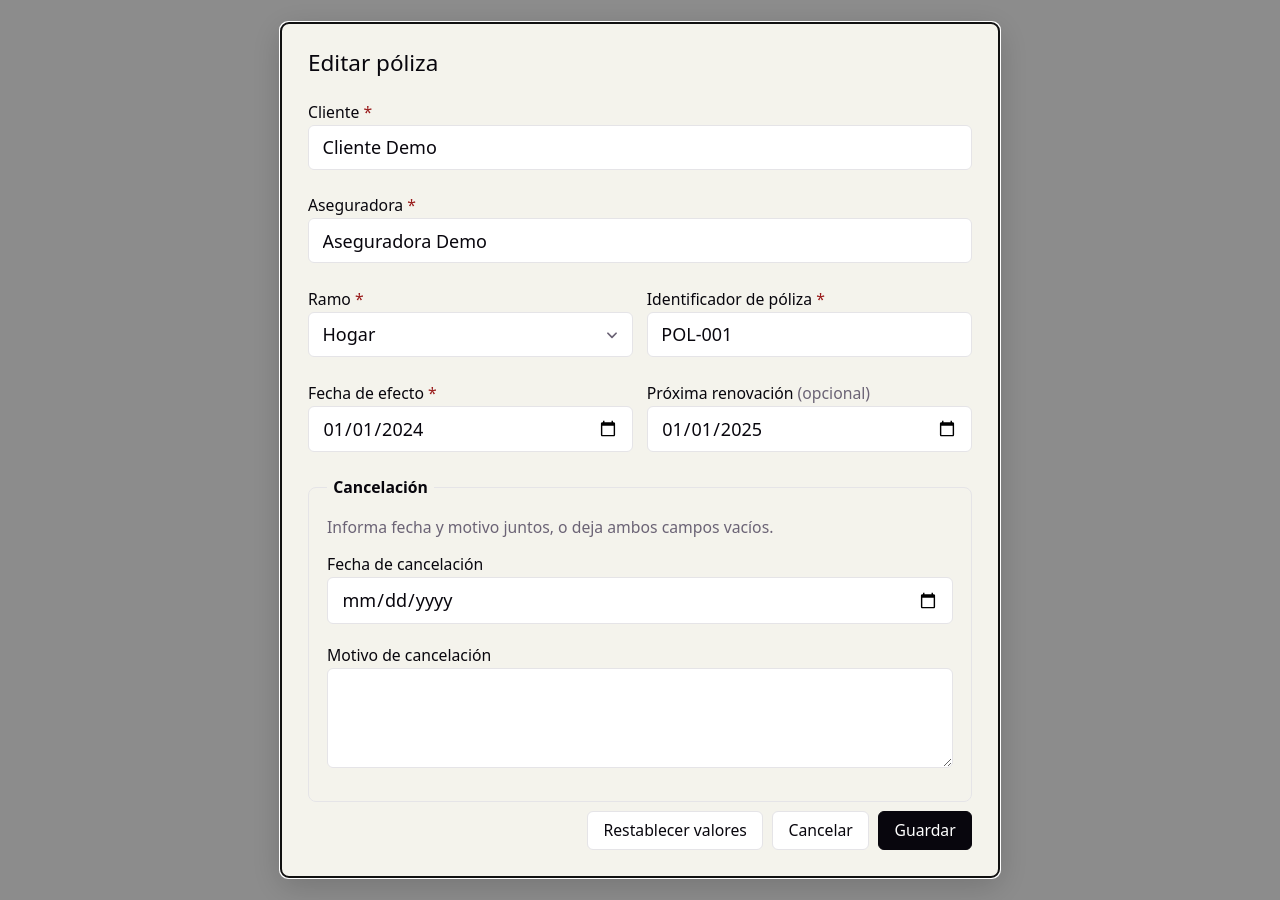
InsurancePolicyFormModal field errors › maps a 409 UNIQUE API error to the identifier field
Step 1. Click the button "Guardar" → (925, 831), box [878,811,972,850]
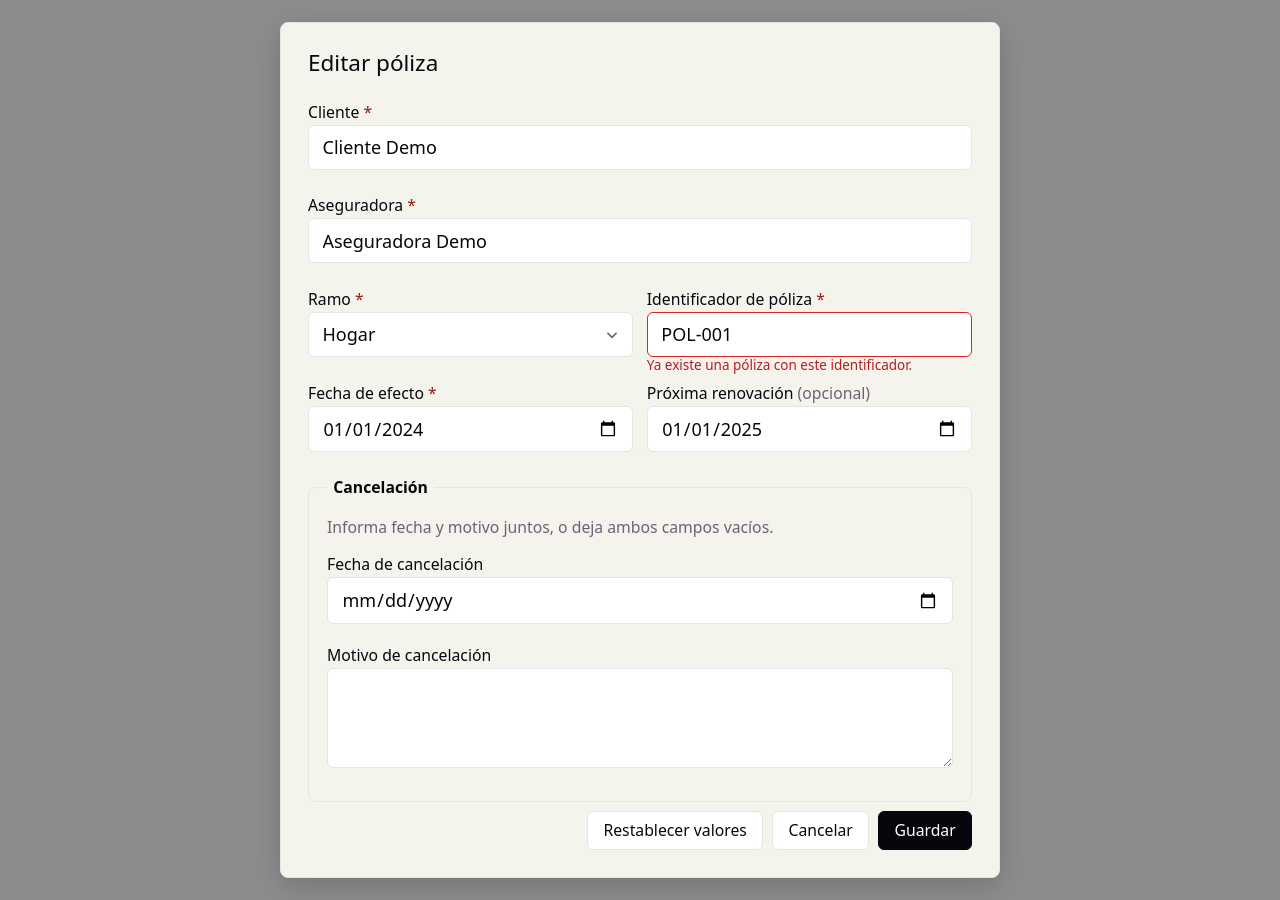
Expected: the message "Ya existe una póliza con este identificador." is shown, [647,356,912,374]
